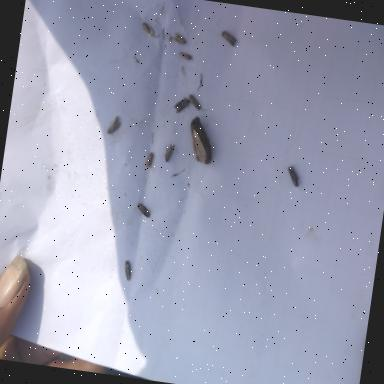pbw: (103, 114, 122, 136), (284, 165, 301, 188), (172, 95, 190, 115), (186, 94, 203, 112), (219, 30, 237, 47), (136, 202, 152, 218), (163, 142, 175, 163), (122, 260, 133, 282), (144, 150, 154, 171), (140, 22, 154, 36), (172, 32, 186, 44), (178, 52, 192, 60)
